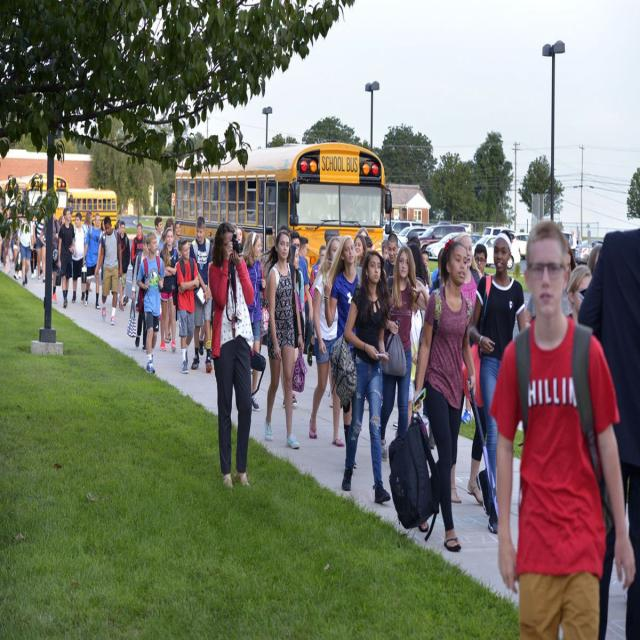body: (485, 218, 638, 639), (388, 236, 478, 554), (576, 228, 640, 640), (466, 224, 530, 536), (340, 250, 392, 506), (207, 219, 255, 495), (378, 243, 431, 465), (259, 227, 308, 451), (450, 231, 488, 506), (321, 234, 364, 473), (308, 236, 346, 449), (461, 244, 490, 425), (524, 237, 577, 332), (278, 243, 306, 409), (135, 230, 166, 374), (242, 231, 266, 412), (172, 236, 201, 375), (189, 214, 214, 373), (406, 242, 430, 393), (405, 241, 430, 382), (92, 214, 122, 326), (306, 244, 329, 368), (126, 232, 149, 354), (157, 215, 177, 344), (288, 230, 315, 324), (289, 234, 309, 357), (160, 227, 179, 353), (80, 212, 103, 310), (38, 210, 61, 304), (57, 206, 75, 309), (564, 263, 593, 325), (70, 212, 88, 304), (16, 208, 34, 288), (118, 220, 132, 312), (408, 240, 431, 294), (421, 245, 446, 292), (383, 232, 400, 298), (357, 226, 389, 260), (5, 218, 22, 280), (32, 214, 47, 284), (28, 205, 40, 279), (0, 201, 12, 267), (130, 222, 145, 266), (350, 233, 367, 269), (587, 243, 602, 279), (99, 218, 107, 282), (231, 223, 246, 243), (154, 216, 164, 244), (576, 228, 583, 266), (173, 220, 182, 248), (569, 230, 577, 260), (85, 210, 94, 230), (279, 224, 292, 236), (58, 214, 72, 225), (115, 218, 121, 234), (329, 390, 334, 409)
